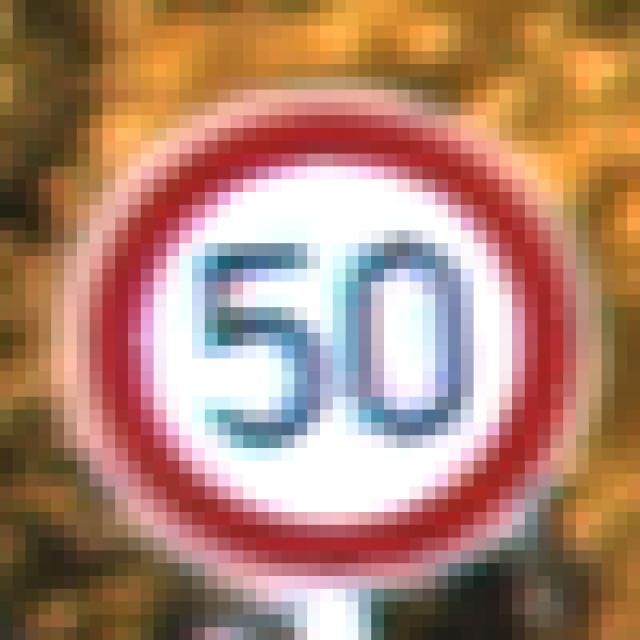Limite-50: (55, 76, 602, 599)
